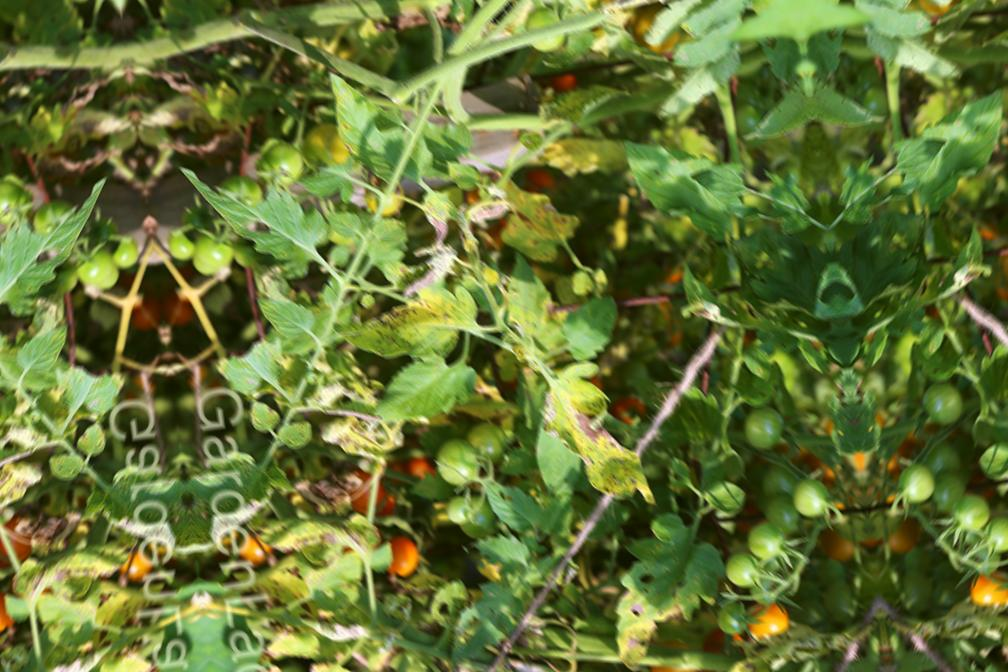Tomato Early blight leaf: (533, 350, 658, 520), (602, 508, 731, 661), (624, 131, 736, 243), (345, 283, 483, 369), (329, 70, 404, 199), (500, 178, 579, 264), (503, 251, 558, 344)
Tomato leaf: (368, 347, 481, 429)
